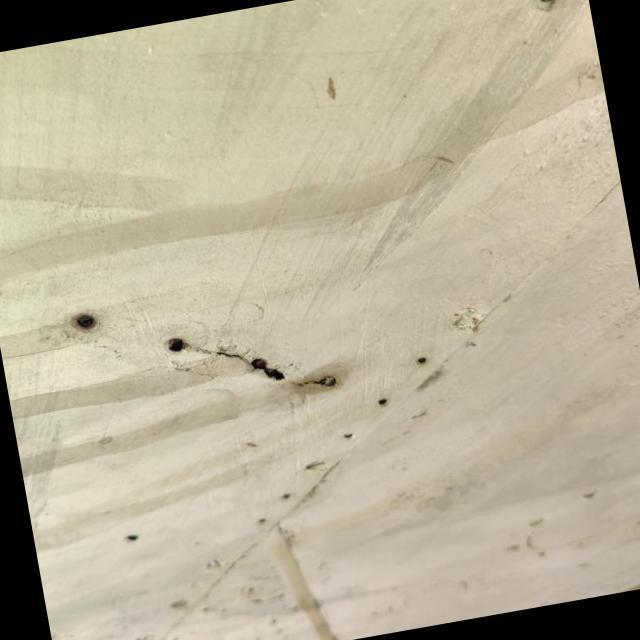Missing Fastener: (70, 309, 100, 336), (410, 351, 432, 367), (121, 532, 142, 546), (337, 430, 355, 444), (255, 512, 269, 528), (278, 486, 290, 504), (373, 397, 389, 408)
